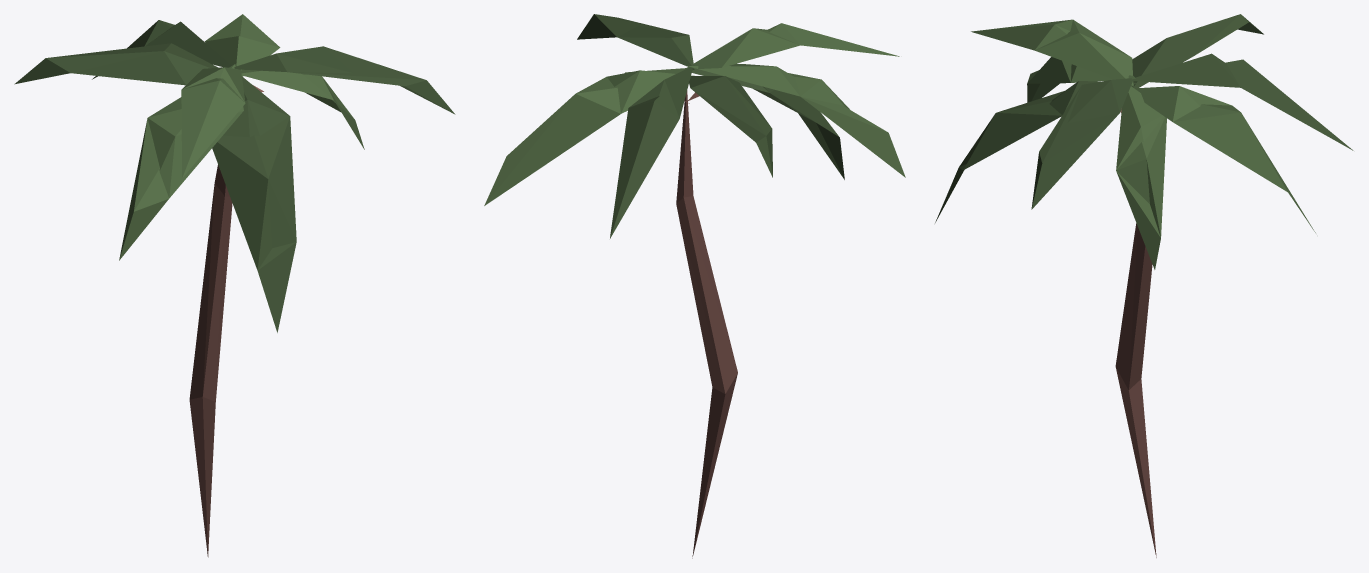
File: PalmTree_4.lod3.glb
The picture shows the model from 3 angles, left to right: view 1: azimuth 30°, elevation 25°; view 2: azimuth 150°, elevation 25°; view 3: azimuth 270°, elevation 25°; orthographic projection. The views are drawn at different scales.
Parts seen in each view (by area): view 1: PalmTree_4; view 2: PalmTree_4; view 3: PalmTree_4.
Boxes of the visible parts, left/top/right/bottom form: PalmTree_4: left=14, top=14, right=455, bottom=557; PalmTree_4: left=484, top=14, right=905, bottom=558; PalmTree_4: left=935, top=14, right=1353, bottom=557.
Bounding box in the file's own units: 2.35 × 3.5 × 2.59.
